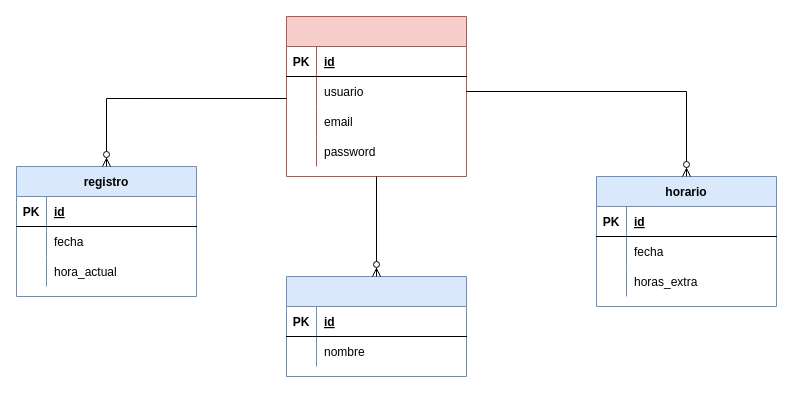
This 793x393 diagram has some shape labels left out. The box of each missing label's shape, as (x1, y1, x2, y2) in pixels:
rol: (286, 276, 466, 376)
user: (286, 16, 466, 176)
